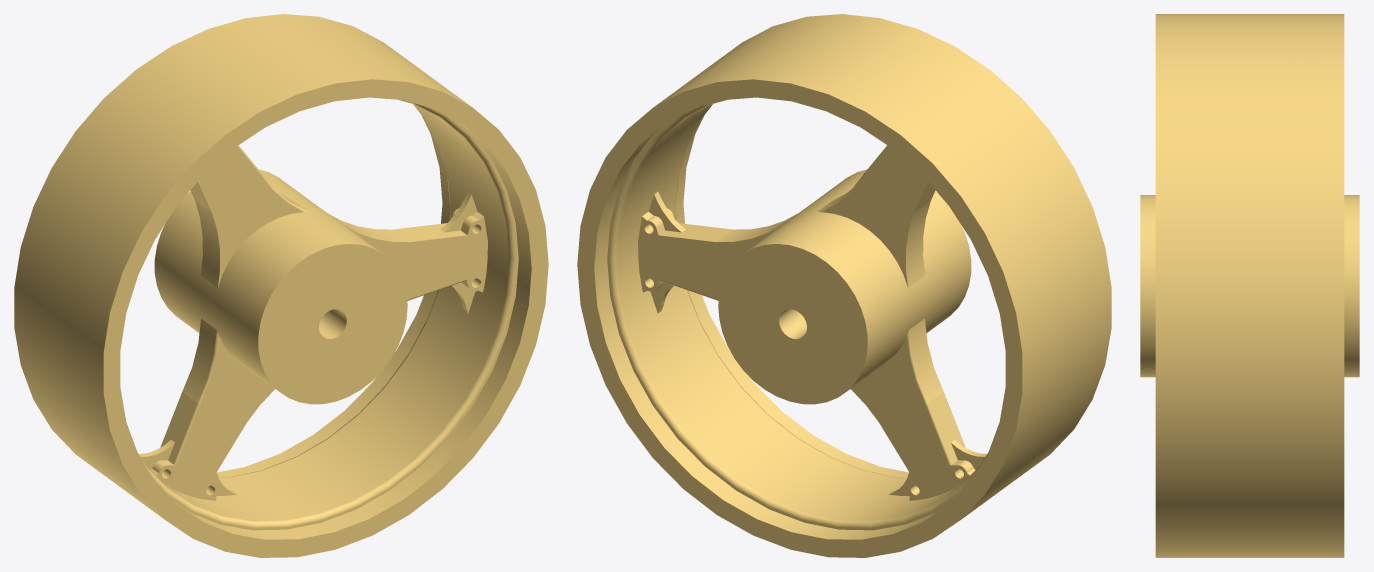
File: Akiruhanui_ReVOLT_EV_Kawasaki_Rear_Wheel_Rim_INCOMPLETE.obj
3 views of the same model, side by side, from view 1: azimuth 30°, elevation 25°; view 2: azimuth 150°, elevation 25°; view 3: azimuth 270°, elevation 25° (orthographic). The views are drawn at different scales.
Visible parts, largest first — view 1: Fillet1, Fillet2; view 2: Fillet1, Fillet2; view 3: Fillet1, Fillet2.
Boxes of the visible parts, box(x1,y1,x2,y2) form: Fillet1: box(14, 14, 548, 557); Fillet2: box(139, 145, 487, 500); Fillet1: box(577, 14, 1111, 557); Fillet2: box(638, 145, 986, 500); Fillet1: box(1155, 14, 1344, 557); Fillet2: box(1140, 195, 1359, 377).
Size of the model in its own units: 446 by 447 by 180.
